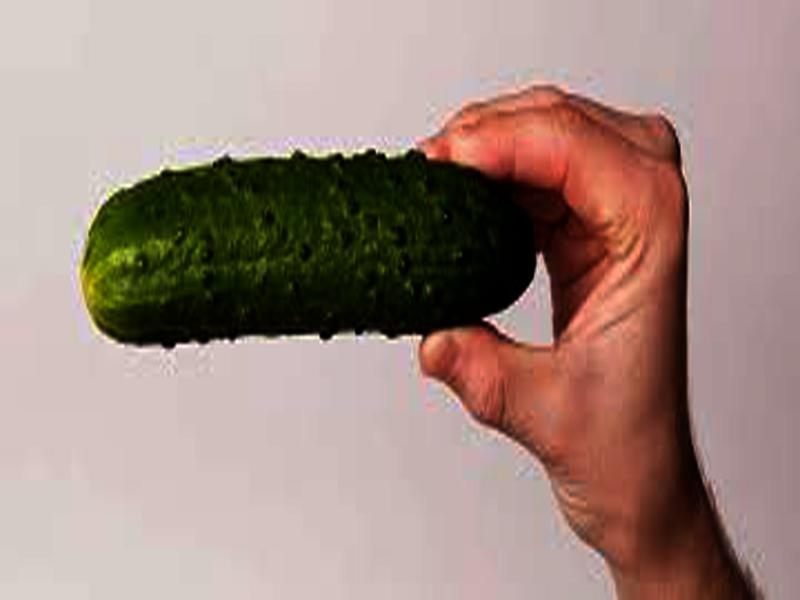Cucumber: (84, 154, 536, 330)
